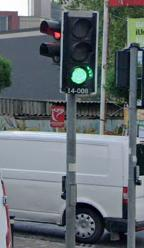greenlight: (62, 13, 97, 95)
redlight: (36, 15, 62, 74)
